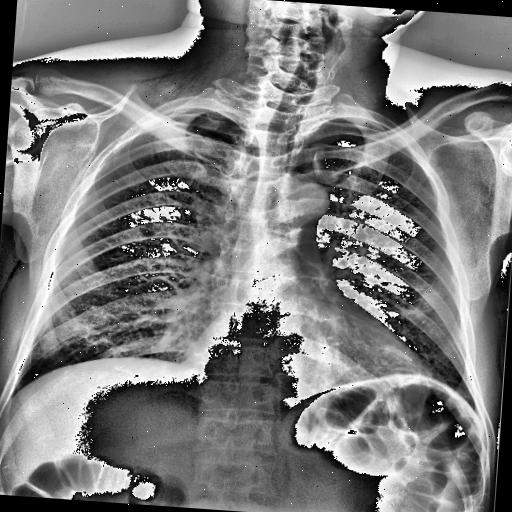0- Aortic enlargement: (276, 172, 332, 234), (272, 174, 332, 224), (283, 180, 332, 218)
11- Pleural thickening: (159, 102, 233, 126), (316, 110, 382, 129)
3- Cardiomegaly: (184, 328, 436, 406), (180, 324, 434, 391), (180, 343, 434, 408)
